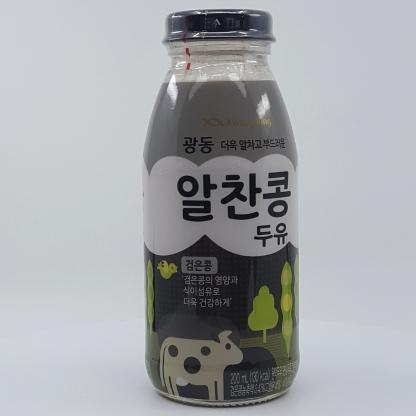--------200ML: (141, 8, 300, 407)
